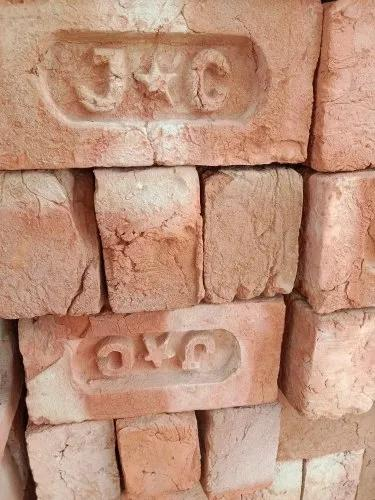brick: (3, 0, 323, 165), (19, 301, 285, 422), (96, 169, 202, 309), (0, 173, 98, 320), (205, 169, 301, 300), (315, 1, 373, 170), (320, 173, 375, 317), (28, 423, 121, 500), (304, 318, 372, 419), (120, 414, 201, 498), (206, 405, 280, 494), (304, 450, 364, 500)
